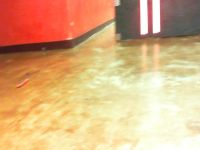switch: (140, 1, 148, 35), (152, 1, 160, 35)
